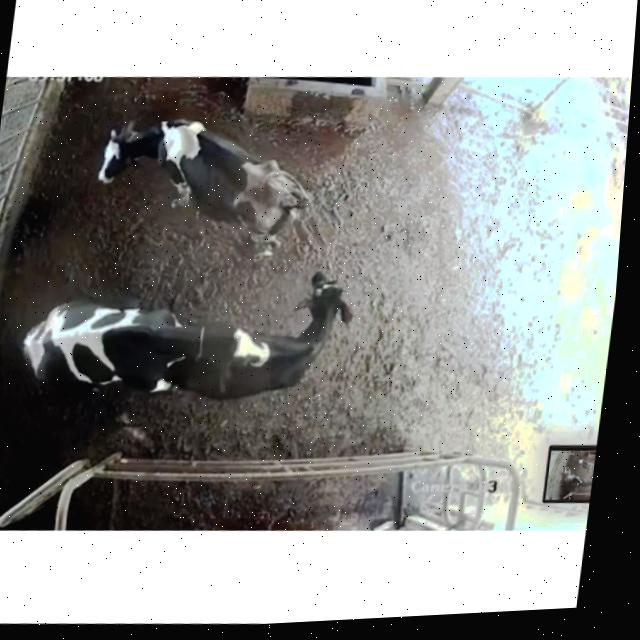ride: (0, 276, 290, 430)
